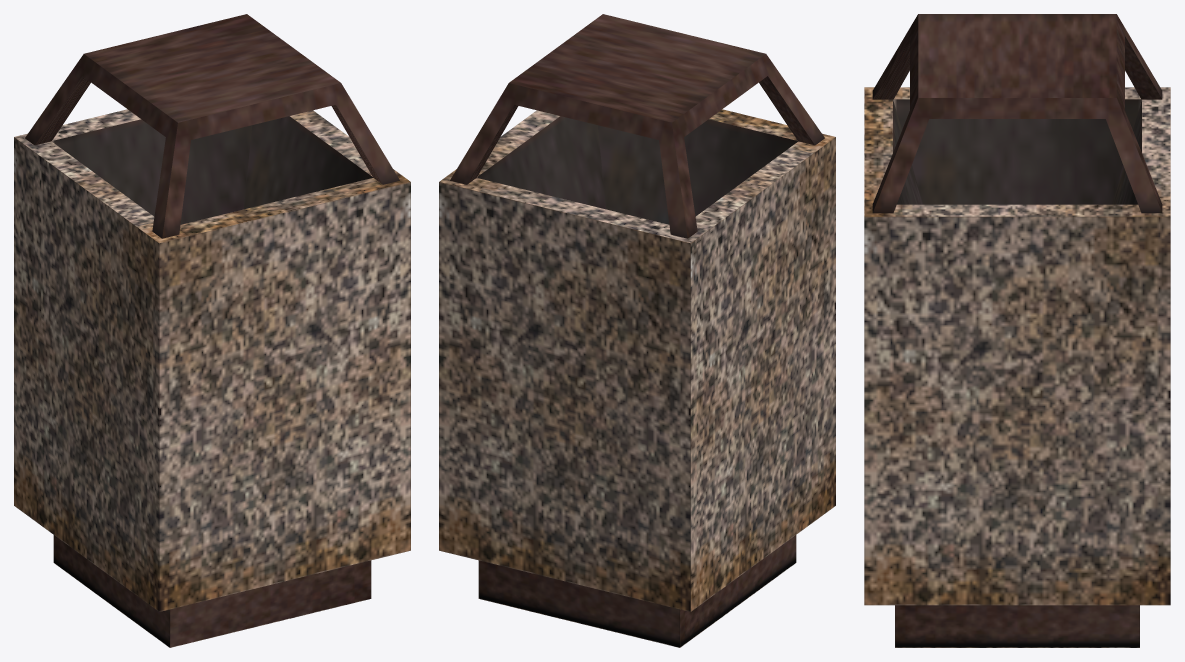
Rendered from garbagecan.fbx.
3 renders of one model, left to right at view 1: azimuth 30°, elevation 25°; view 2: azimuth 150°, elevation 25°; view 3: azimuth 270°, elevation 25°, orthographic. The views are drawn at different scales.
Visible parts, largest first — view 1: mesh_0; view 2: mesh_0; view 3: mesh_0.
Boxes of the visible parts, box(x1,y1,x2,y2) form: mesh_0: box(14, 14, 410, 647); mesh_0: box(439, 14, 835, 647); mesh_0: box(864, 14, 1170, 647).
Bounding box in the file's own units: 56.09 × 109 × 56.09.
1 material, 1 textured.
